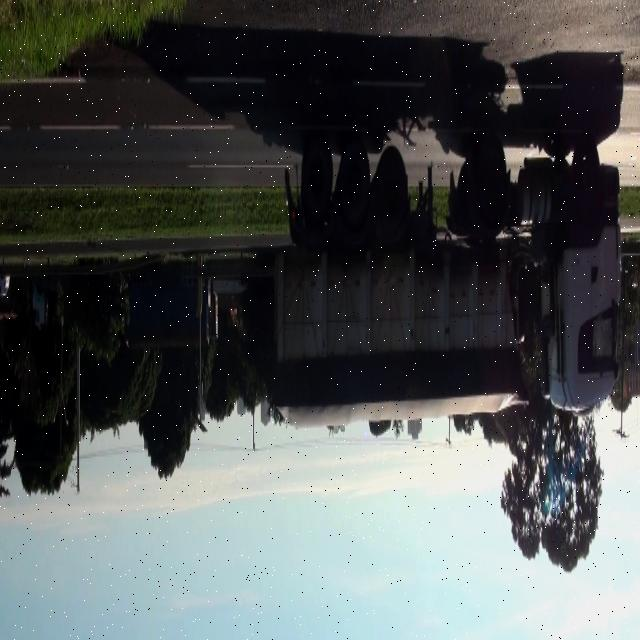-axle: (475, 138, 512, 220), (341, 135, 372, 229), (378, 147, 410, 238), (302, 137, 334, 226), (572, 124, 599, 224)
